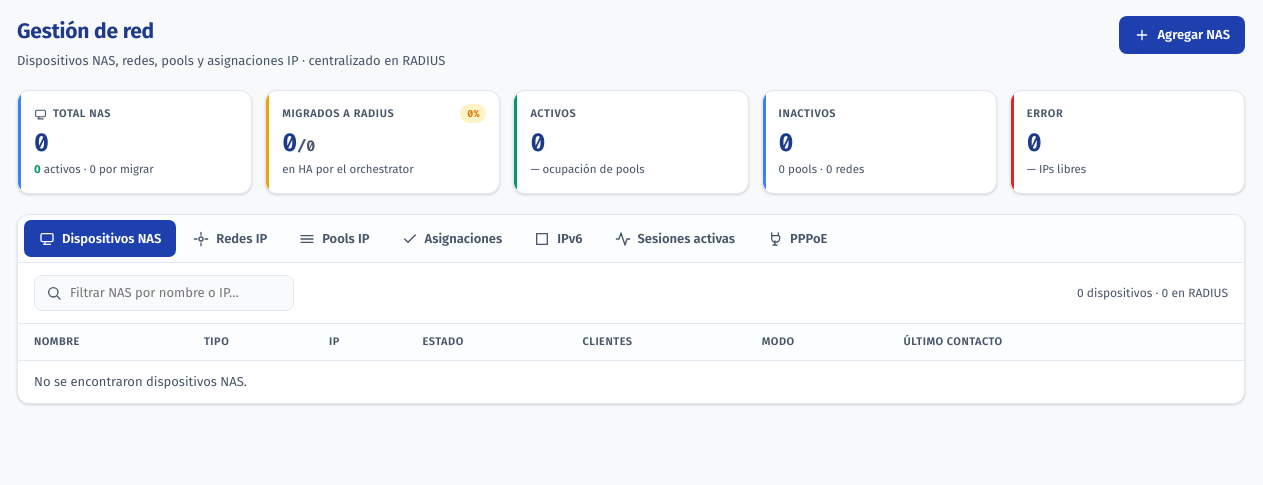
it: GestionRedPage — Tab Sesiones activas › S-4: empty state cuando no hay sesiones para los filtros
This screenshot has width=1263, height=485.
Click the button "Sesiones activas" at (675,239), box 600,220 -> 750,257
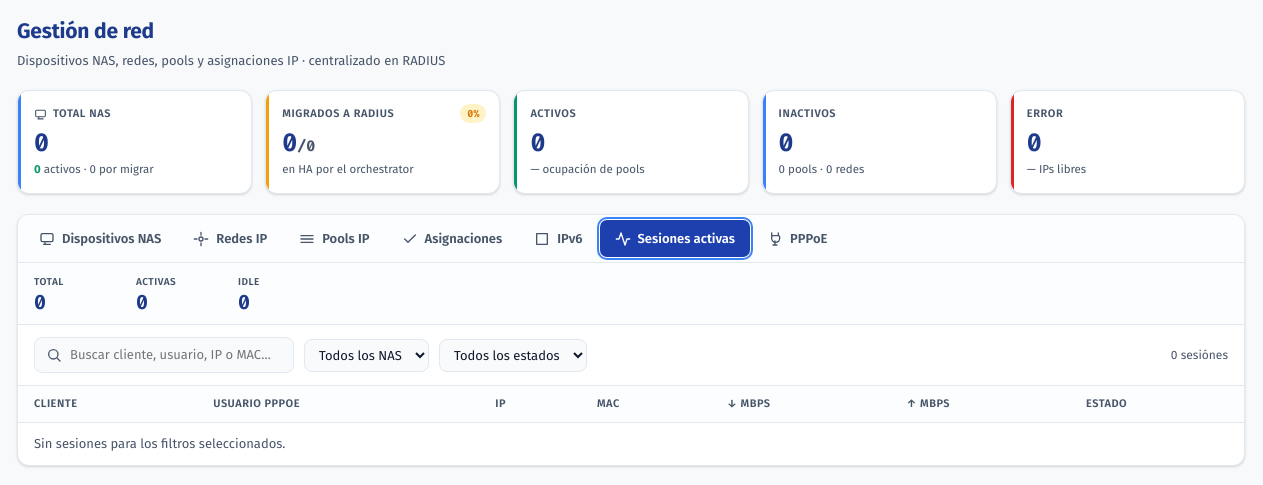
Now the text "Sin sesiones para los filtros seleccionados." is shown, box 18,423 -> 1244,465
